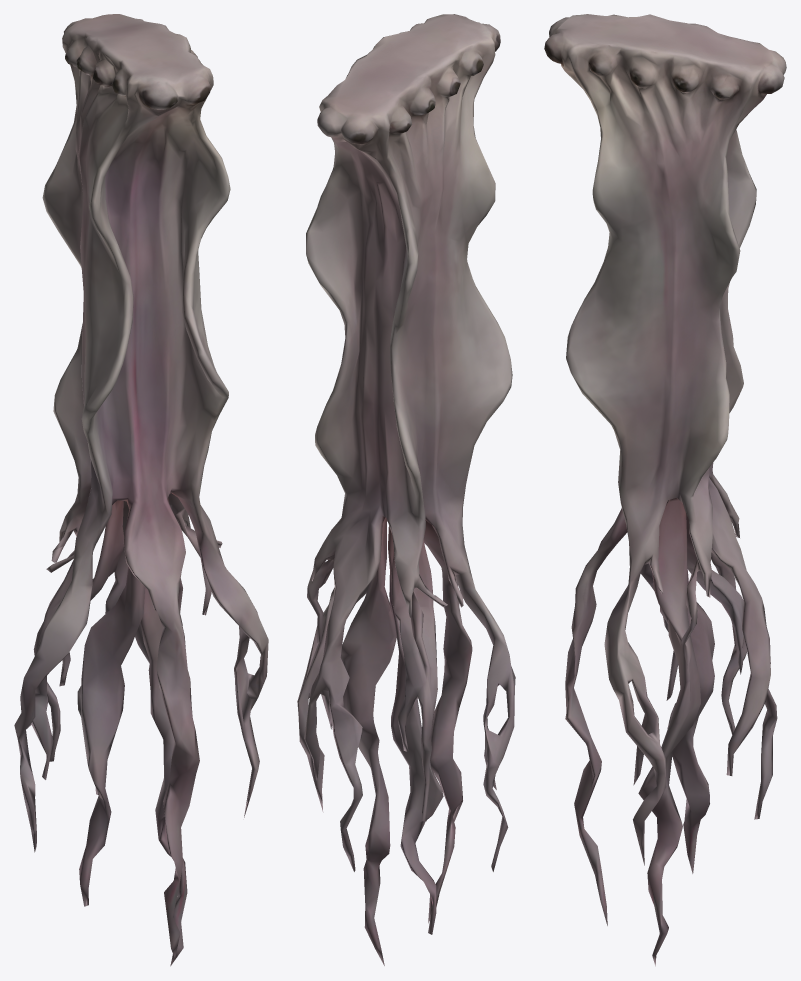
Rendered from CHR_PLAYER_01_05_02_v001_RAW .glb.
The picture shows the model from 3 angles, left to right: view 1: azimuth 30°, elevation 25°; view 2: azimuth 150°, elevation 25°; view 3: azimuth 270°, elevation 25°; orthographic projection.
Parts seen in each view (by area): view 1: tripo_node_dfde72f5-530a-4fdf-ae96-514896a2f60a; view 2: tripo_node_dfde72f5-530a-4fdf-ae96-514896a2f60a; view 3: tripo_node_dfde72f5-530a-4fdf-ae96-514896a2f60a.
Part boxes in pixels (x1,y1,x2,y2): tripo_node_dfde72f5-530a-4fdf-ae96-514896a2f60a: (14, 14, 268, 966); tripo_node_dfde72f5-530a-4fdf-ae96-514896a2f60a: (297, 14, 515, 965); tripo_node_dfde72f5-530a-4fdf-ae96-514896a2f60a: (544, 14, 786, 966).
Size of the model in its own units: 0.2461 by 0.9808 by 0.2333.
1 material, 1 textured.
